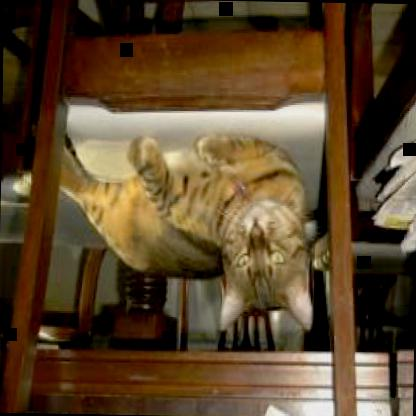cat: (57, 128, 316, 332)
